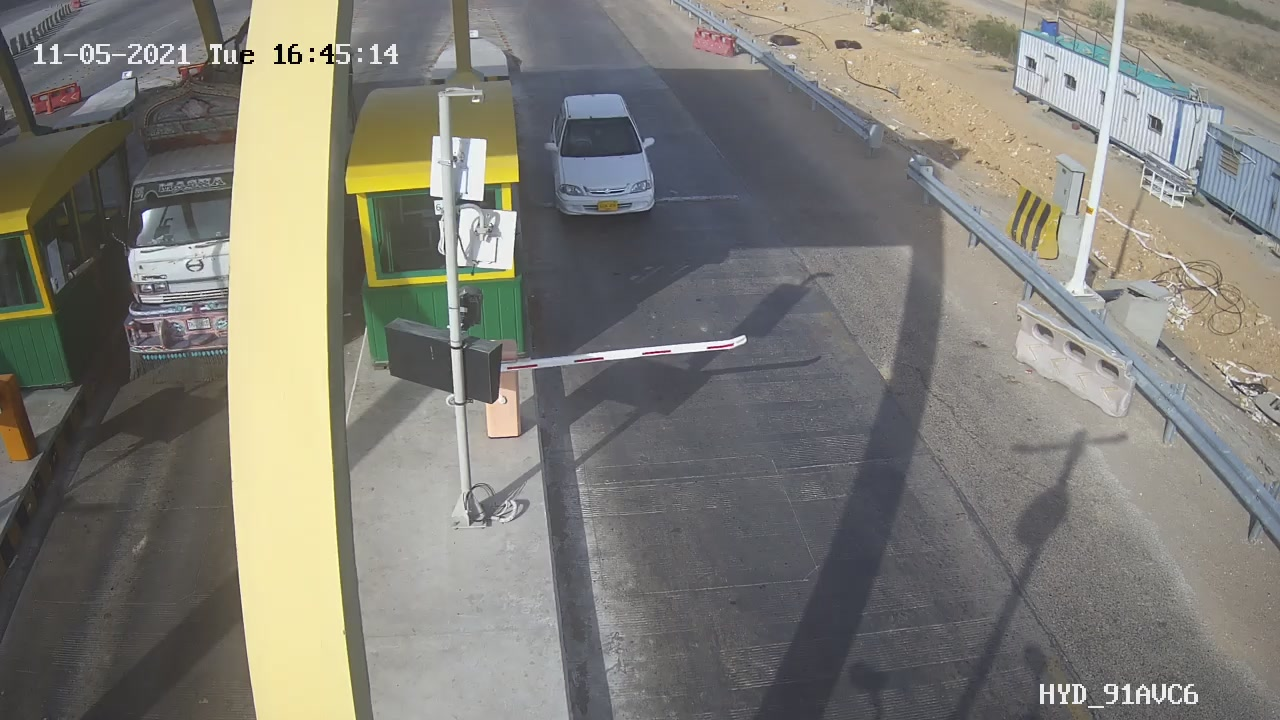F1: (527, 83, 687, 229)
